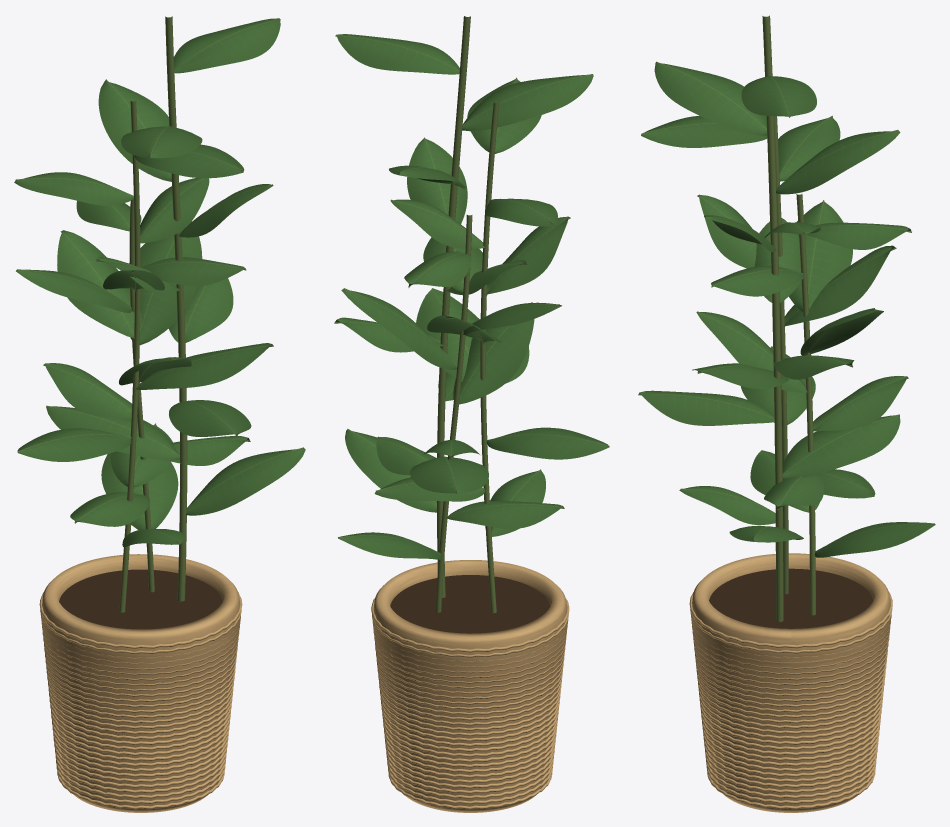
Rendered from plant.glb.
3 views of the same model, side by side, from view 1: azimuth 30°, elevation 25°; view 2: azimuth 150°, elevation 25°; view 3: azimuth 270°, elevation 25° (orthographic). The views are drawn at different scales.
Parts seen in each view (by area): view 1: Leaf_detail_group, Cane_detail_group, Stem_detail_group, Earth_detail_group; view 2: Leaf_detail_group, Cane_detail_group, Stem_detail_group, Earth_detail_group; view 3: Leaf_detail_group, Cane_detail_group, Stem_detail_group, Earth_detail_group.
Part boxes in pixels (x1,y1,x2,y2): Leaf_detail_group: (14, 18, 305, 547); Cane_detail_group: (39, 554, 242, 812); Stem_detail_group: (15, 16, 303, 612); Earth_detail_group: (59, 569, 222, 629); Leaf_detail_group: (335, 34, 609, 559); Cane_detail_group: (371, 560, 569, 812); Stem_detail_group: (334, 16, 609, 613); Earth_detail_group: (390, 575, 550, 633); Leaf_detail_group: (639, 62, 935, 557); Cane_detail_group: (689, 553, 892, 812); Stem_detail_group: (638, 15, 934, 621); Earth_detail_group: (709, 568, 873, 628).
Bounding box in the file's own units: 0.5942 × 1.57 × 0.5473.
4 materials, 2 textured.
